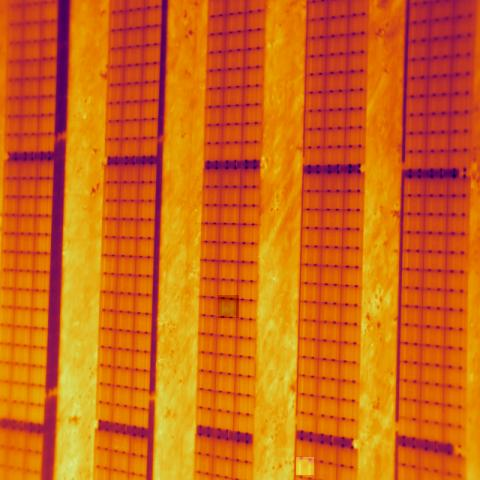fault: (218, 295, 239, 318), (296, 457, 314, 475)
